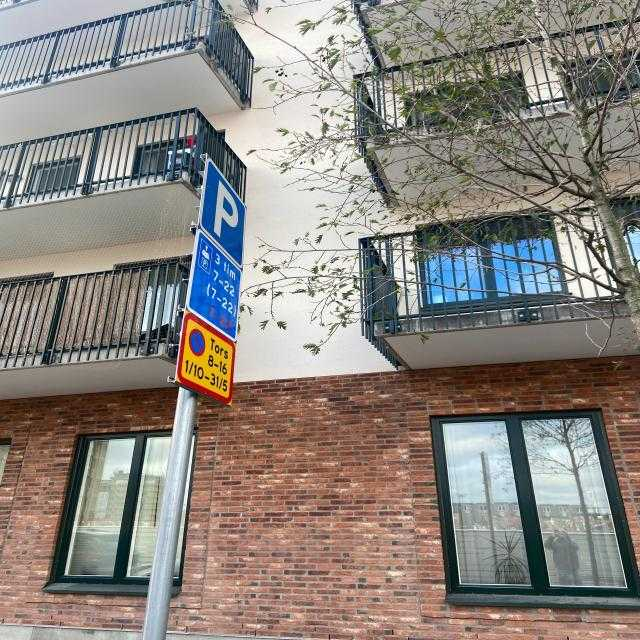psign: (204, 159, 246, 259)
